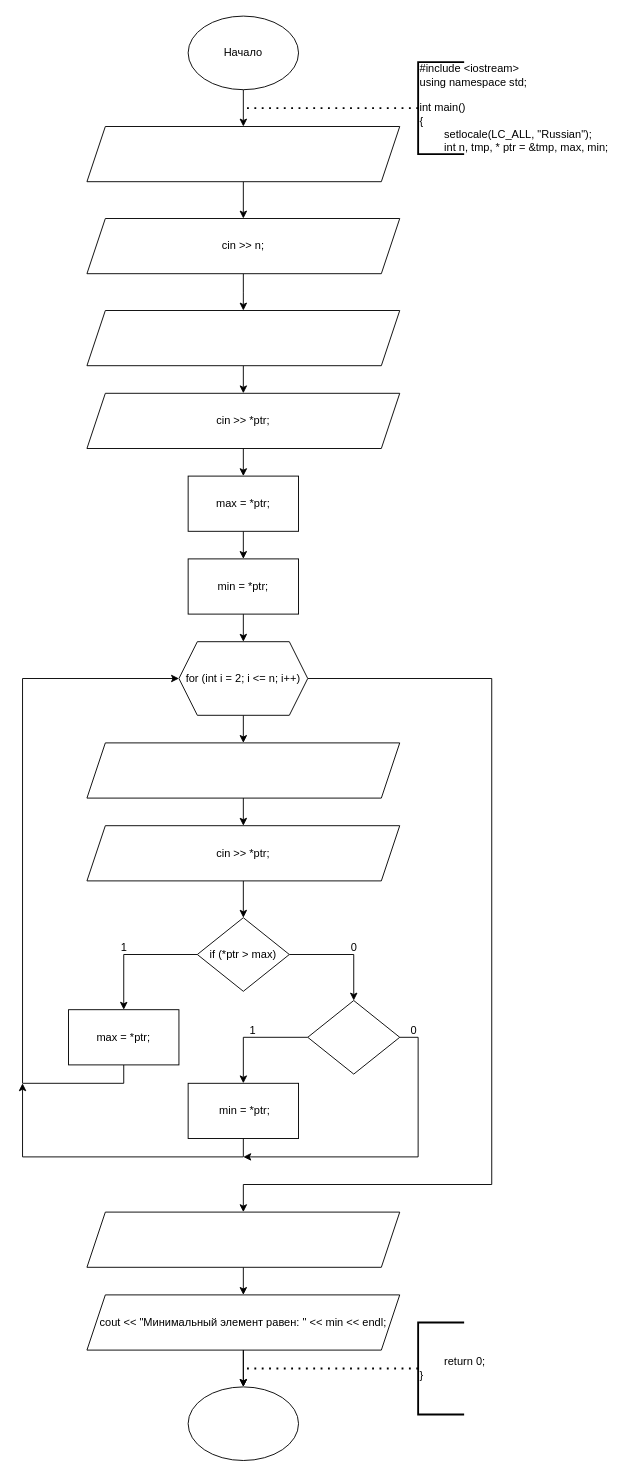
Image size: 625x1477. Some labels were removed from this diagram. The centre of each missing label's shape, as x and y in pixels:
cout << "Введите длину последовательности:" << endl;: point 243,154
cout << "Введите первое число:" << endl;: point 243,338
cout << "Введите следующее число:" << endl;: point 243,770
cout << "Максимальный элемент равен: " << max << endl;: point 243,1239
if (*ptr < min): point 353,1037
Конец: point 243,1423
